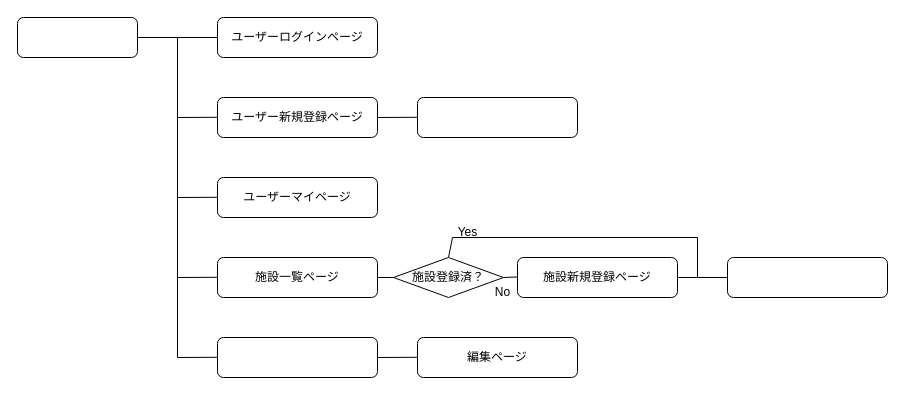
Some shapes in this 905 by 395 pixel diagram are drawn without their labels. Each missing label, with the centre of its shape:
ペット登録ページ: pixel 497 117
一覧ページ: pixel 77 37
投稿ページ: pixel 807 277
詳細ページ: pixel 297 357
